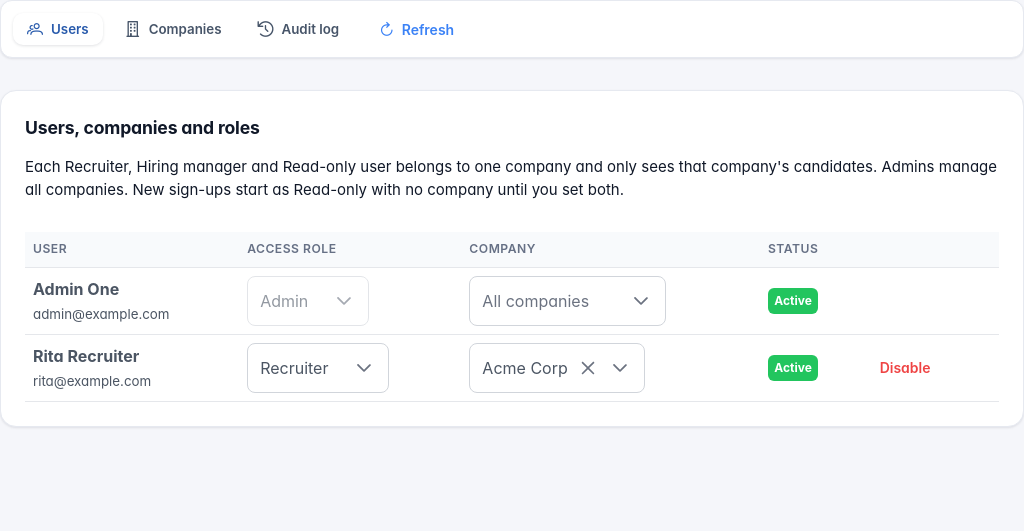
Test case: AdminModule › requires a company name
The width and height of the screenshot is (1024, 531).
Step 1. Click the tab with class "admin-tab" showing "Companies" → point(173, 29), box [111,13,236,45]
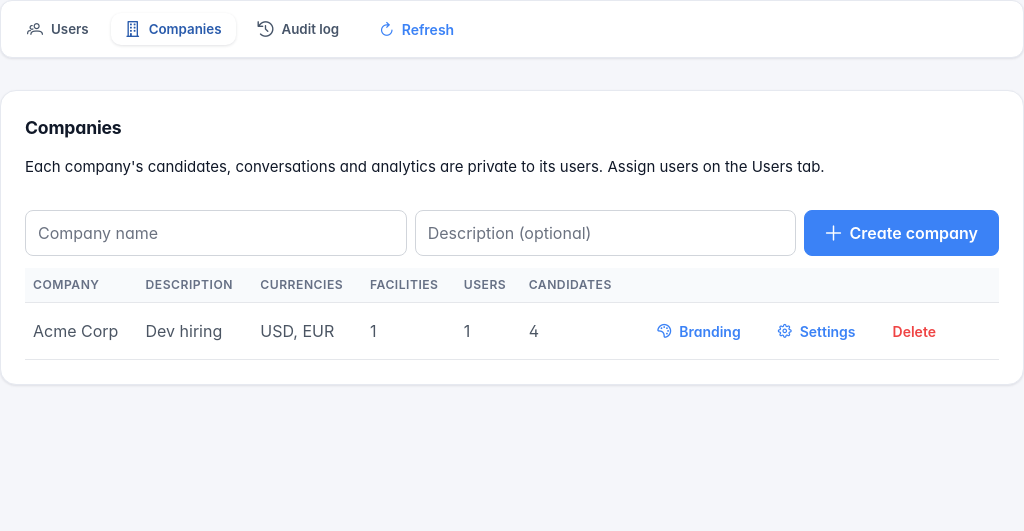
Step 2. Submit the form with class "company-form", box [25,210,999,256]
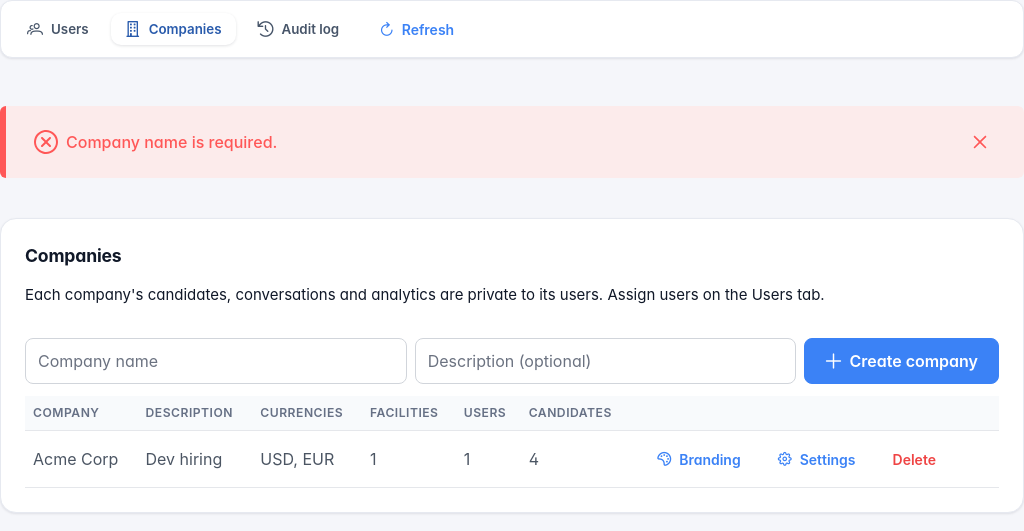
Check: the text "Company name is required." is shown, box [66,130,277,154]
